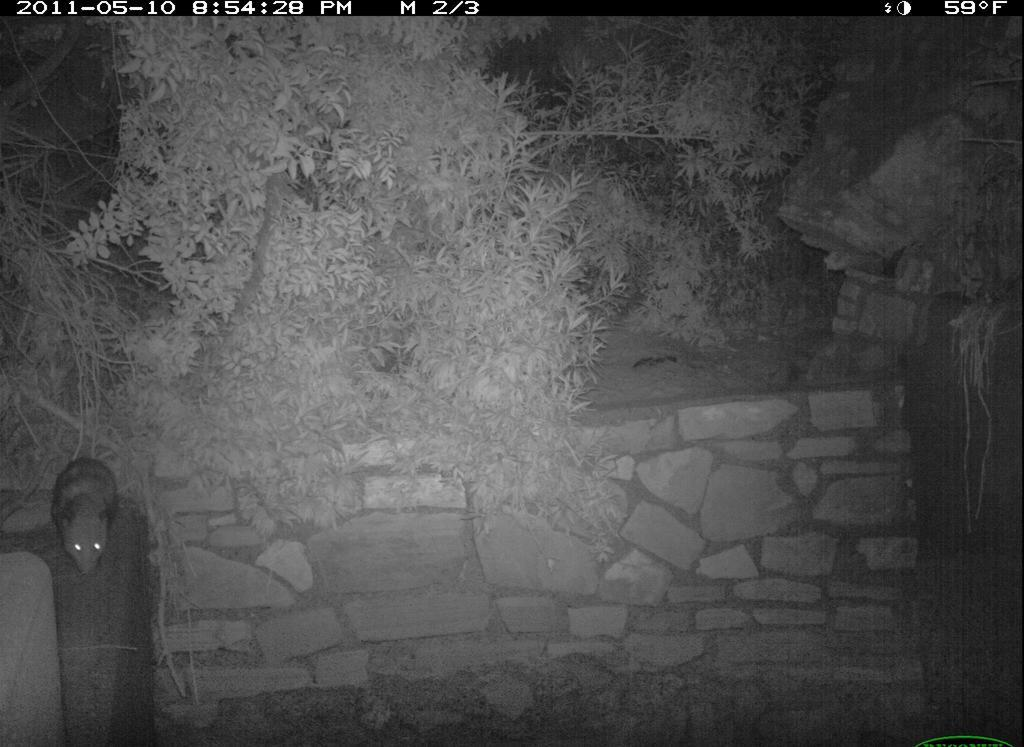opossum: (47, 445, 129, 588)
